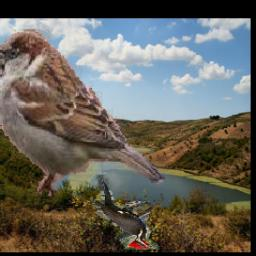Sparrow: (0, 30, 166, 197)
Woodpecker: (93, 175, 161, 250)
